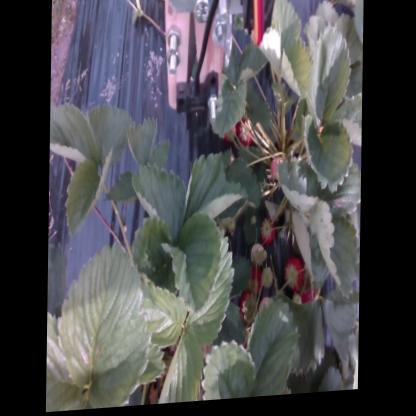ripe: (239, 289, 259, 328), (287, 261, 308, 296), (259, 220, 279, 253), (301, 277, 319, 311), (235, 121, 253, 152), (220, 118, 238, 148)
unripe: (251, 245, 266, 270)
